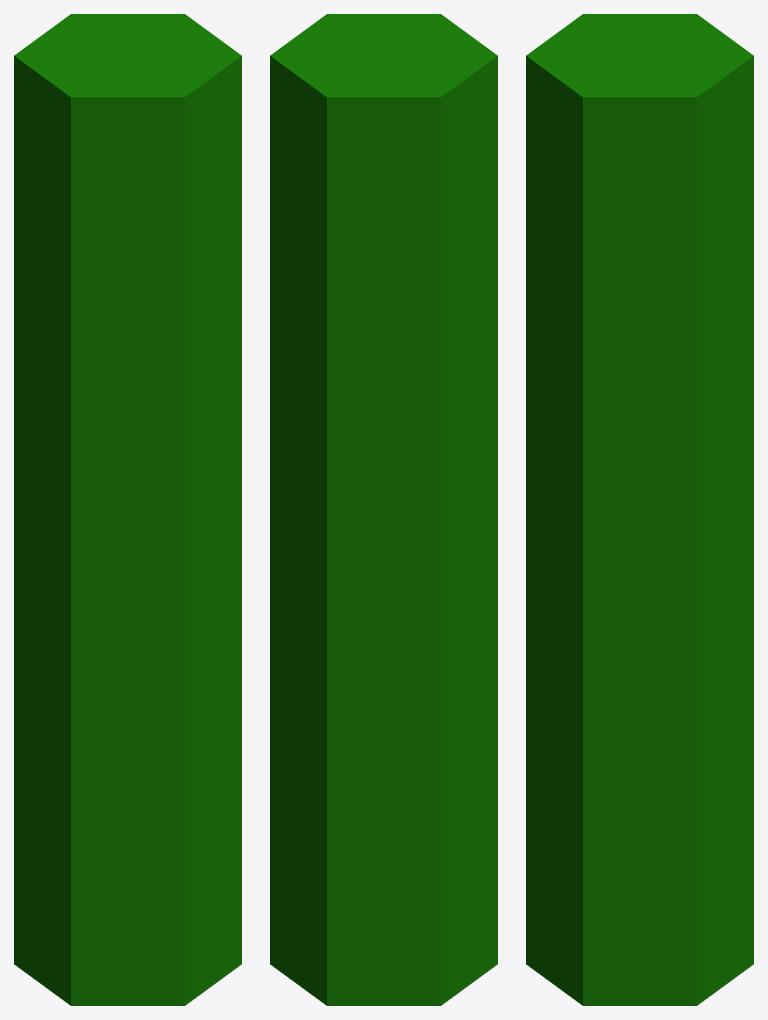
The model's file is GrassTile.fbx.
3 views of the same model, side by side, from view 1: azimuth 30°, elevation 25°; view 2: azimuth 150°, elevation 25°; view 3: azimuth 270°, elevation 25° (orthographic).
Parts seen in each view (by area): view 1: Tile; view 2: Tile; view 3: Tile.
Part boxes in pixels (x1,y1,x2,y2): Tile: [14, 14, 241, 1005]; Tile: [270, 14, 497, 1005]; Tile: [526, 14, 753, 1005].
Size of the model in its own units: 100 by 508 by 115.
